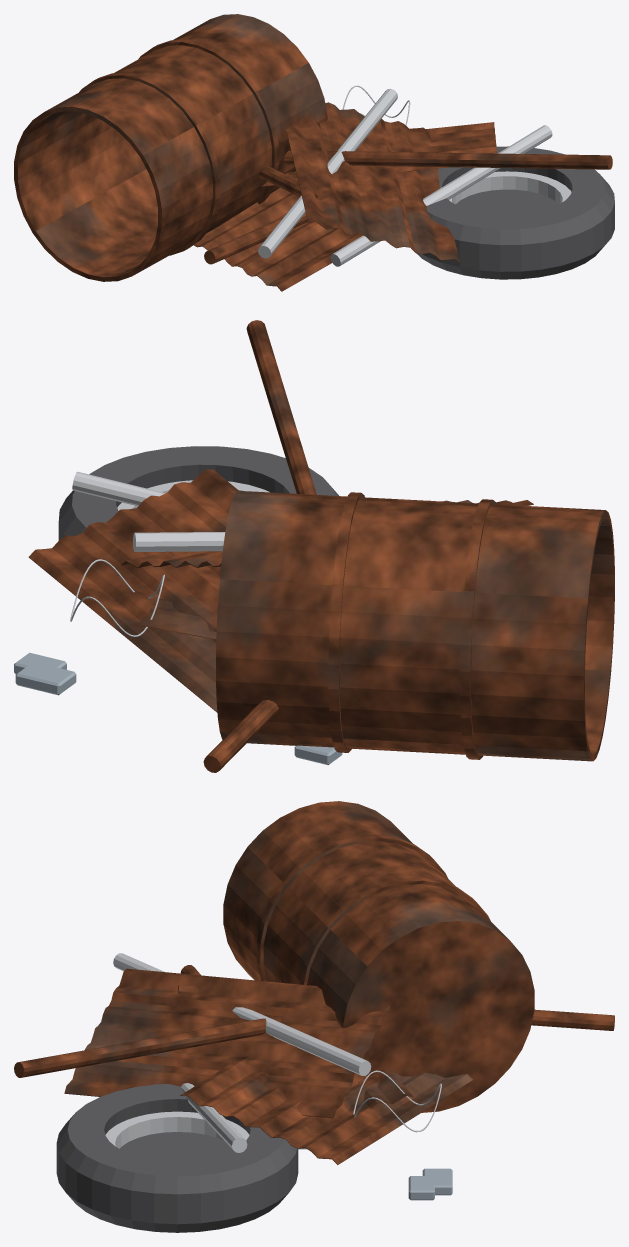
The model's file is pilha_sucata.glb.
3 renders of one model, top to bottom at view 1: azimuth 30°, elevation 25°; view 2: azimuth 150°, elevation 25°; view 3: azimuth 270°, elevation 25°, orthographic. The views are drawn at different scales.
Parts seen in each view (by area): view 1: pilha_sucata_ferrugem, pilha_sucata_borracha, pilha_sucata_aco; view 2: pilha_sucata_ferrugem, pilha_sucata_borracha, pilha_sucata_aco, pilha_sucata_aco_pintado; view 3: pilha_sucata_ferrugem, pilha_sucata_borracha, pilha_sucata_aco, pilha_sucata_aco_pintado.
Boxes of the visible parts, x1,y1,x2,y2 form: pilha_sucata_ferrugem: (14, 14, 612, 291); pilha_sucata_borracha: (416, 146, 614, 279); pilha_sucata_aco: (258, 85, 571, 266); pilha_sucata_ferrugem: (28, 320, 614, 772); pilha_sucata_borracha: (58, 446, 338, 540); pilha_sucata_aco: (70, 471, 269, 637); pilha_sucata_aco_pintado: (14, 652, 342, 764); pilha_sucata_ferrugem: (14, 801, 614, 1164); pilha_sucata_borracha: (56, 1084, 298, 1232); pilha_sucata_aco: (105, 953, 441, 1152); pilha_sucata_aco_pintado: (298, 1148, 452, 1200).
Size of the model in its own units: 1.7 by 0.59 by 1.64.
4 materials, 1 textured.
